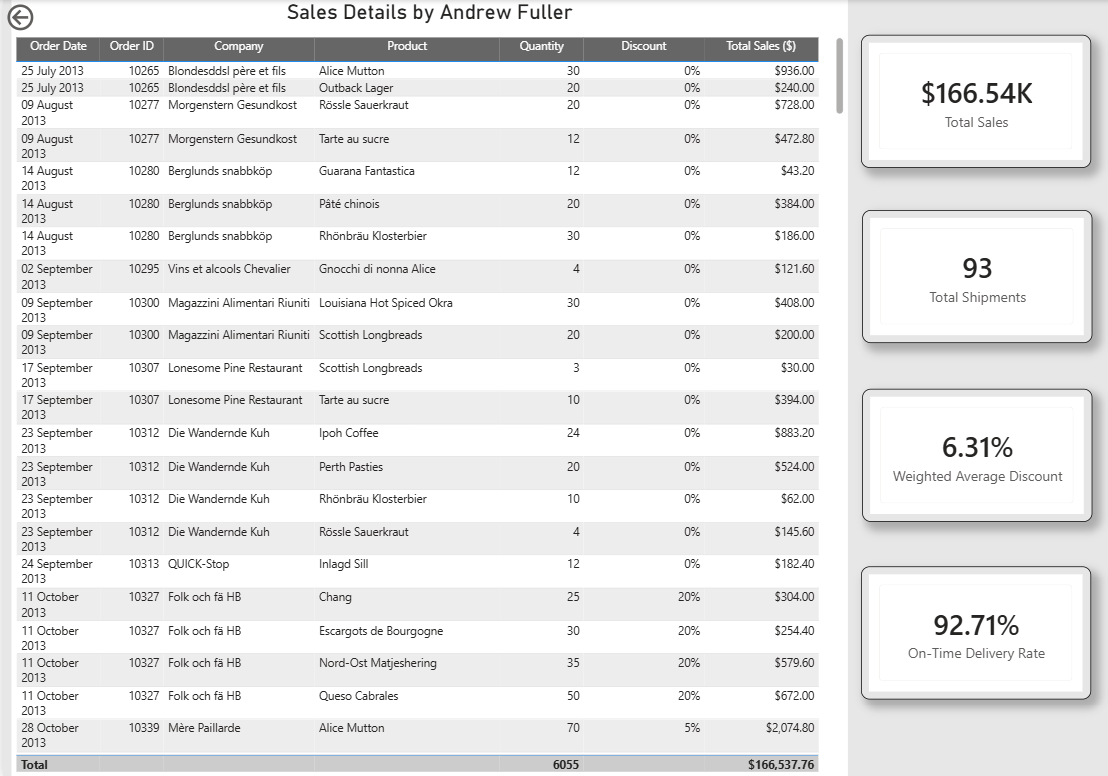

Layout of this report page (visuals, bound fields, positions):
{"tool":"powerbi","page":{"name":"Employee Sales Details","canvas":[1280,900],"ordinal":3},"visuals":[{"type":"tableEx","fields":{"Values":["Orders.orderDate","Orders.orderID","Customers.companyName","Products.productName","Sum(Order_details.quantity)","_Measures.Discount Display","Sum(Order_details.Total price)"]},"box":[9.7,0,969,899.5],"z":0},{"type":"actionButton","box":[0,0,100,40],"z":1000},{"type":"cardVisual","fields":{"Data":["_Measures.Total Shipments"]},"box":[995.4,243.3,266.9,154.3],"z":2000},{"type":"cardVisual","fields":{"Data":["_Measures.Weighted Average Discount"]},"box":[995.4,450.4,266.9,154.3],"z":3000},{"type":"cardVisual","fields":{"Data":["_Measures.On-Time Delivery Rate"]},"box":[994,656.2,266.9,154.3],"z":4000},{"type":"cardVisual","fields":{"Data":["Sum(Order_details.Total price)"]},"box":[994,40.3,266.9,154.3],"z":5000}]}

Visuals, with their boxes in screenshot pixels (x1, y1, x2, y2), scaled from the page's 1280x900 canvas onto the 1108x776 screenshot:
tableEx - Orders.orderDate x Orders.orderID: <box>8,0,847,775</box>
actionButton: <box>0,0,87,34</box>
cardVisual - _Measures.Total Shipments: <box>862,210,1093,343</box>
cardVisual - _Measures.Weighted Average Discount: <box>862,388,1093,521</box>
cardVisual - _Measures.On-Time Delivery Rate: <box>860,566,1091,699</box>
cardVisual - Sum(Order_details.Total price): <box>860,35,1091,168</box>
